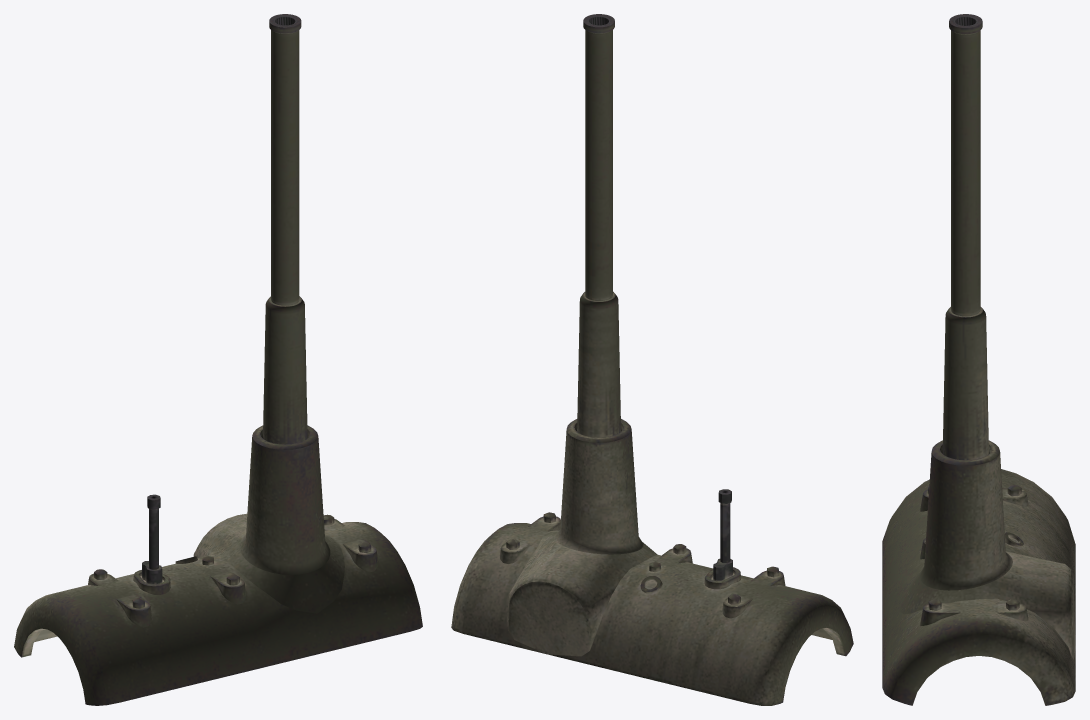
File: Gun_01.glb
The picture shows the model from 3 angles, left to right: view 1: azimuth 30°, elevation 25°; view 2: azimuth 150°, elevation 25°; view 3: azimuth 270°, elevation 25°; orthographic projection. The views are drawn at different scales.
Parts seen in each view (by area): view 1: set_0_group_0; view 2: set_0_group_0; view 3: set_0_group_0.
Boxes of the visible parts, left/top/right/bottom form: set_0_group_0: left=14, top=14, right=422, bottom=705; set_0_group_0: left=451, top=14, right=853, bottom=705; set_0_group_0: left=882, top=14, right=1075, bottom=705.
Bounding box in the file's own units: 0.8489 × 1.5 × 0.4154.
1 material, 1 textured.
